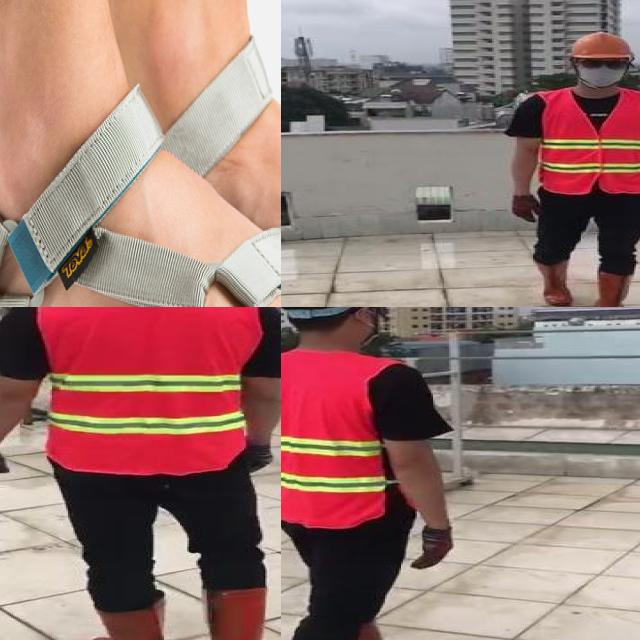Sandals: (0, 66, 281, 307)
boots: (198, 589, 281, 640), (82, 596, 174, 640), (530, 257, 572, 305), (595, 268, 636, 307), (342, 625, 411, 640)
face_mask: (578, 57, 628, 88)
glasses: (573, 56, 632, 72)
hand_glove: (415, 526, 451, 570), (244, 445, 278, 473), (510, 194, 544, 221), (0, 452, 11, 499)
head_helmet: (568, 31, 638, 60)
person: (0, 307, 281, 640), (281, 307, 481, 640), (504, 29, 640, 307)
vest: (38, 307, 246, 476), (281, 353, 397, 525), (536, 89, 640, 194)
